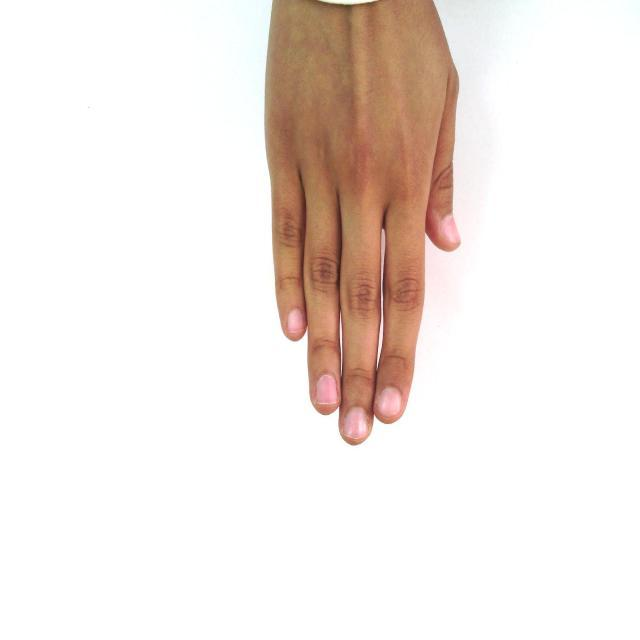Fingernail: (344, 408, 368, 437), (379, 387, 401, 415), (316, 375, 337, 404), (441, 217, 460, 243), (288, 309, 305, 334)
